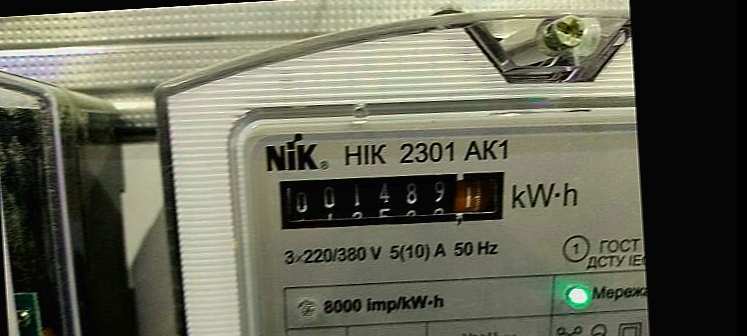0: (291, 185, 308, 211), (318, 179, 335, 205)
1: (347, 177, 363, 207), (459, 176, 473, 207)
4: (374, 176, 391, 203)
8: (400, 174, 418, 202)
9: (429, 175, 445, 201)
screen: (261, 152, 521, 244)
